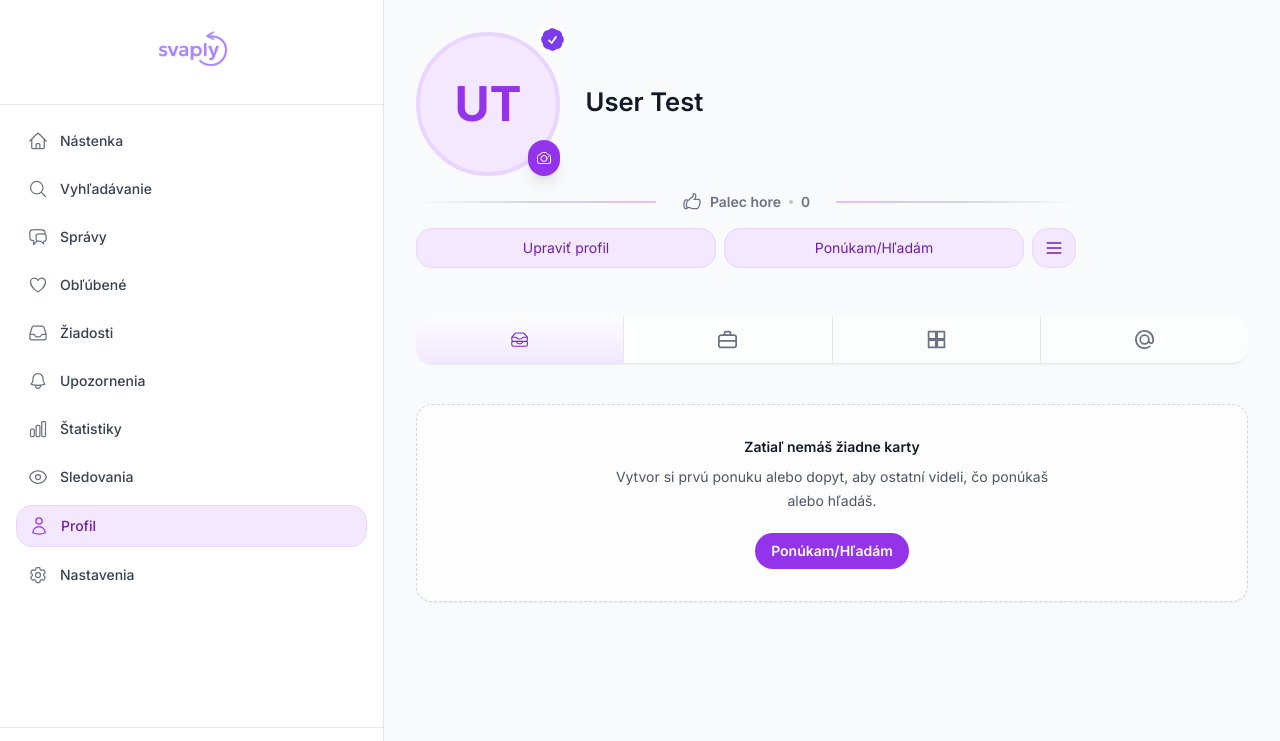
variant 1: vstup cez profil a „Upraviť profil" › Upozornenia: pravý panel aj šípka sú vidieť a šípka vedie rovno na profil
The width and height of the screenshot is (1280, 741).
Click the button "Upraviť profil". click: (566, 248)
box: [416,228,716,268]
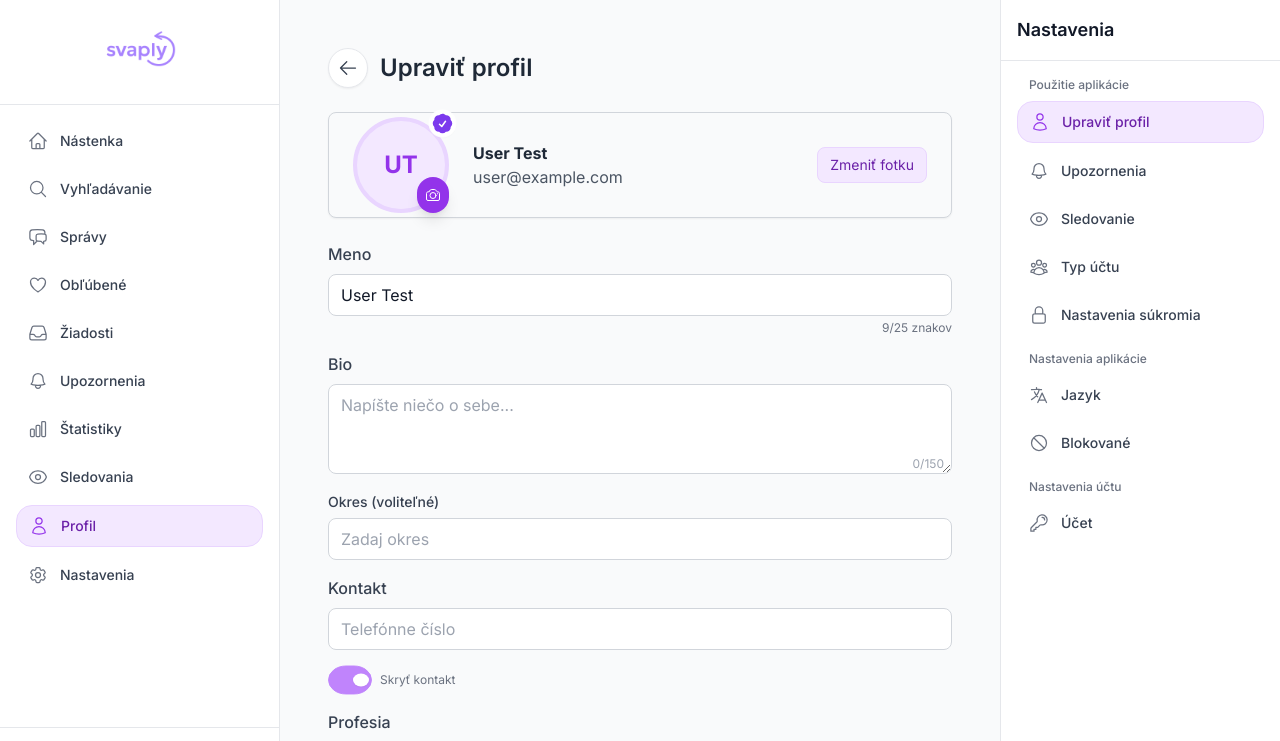
Click the button "Upozornenia" below "Použitie aplikácie". click: (1140, 171)
box: [1017,151,1264,191]
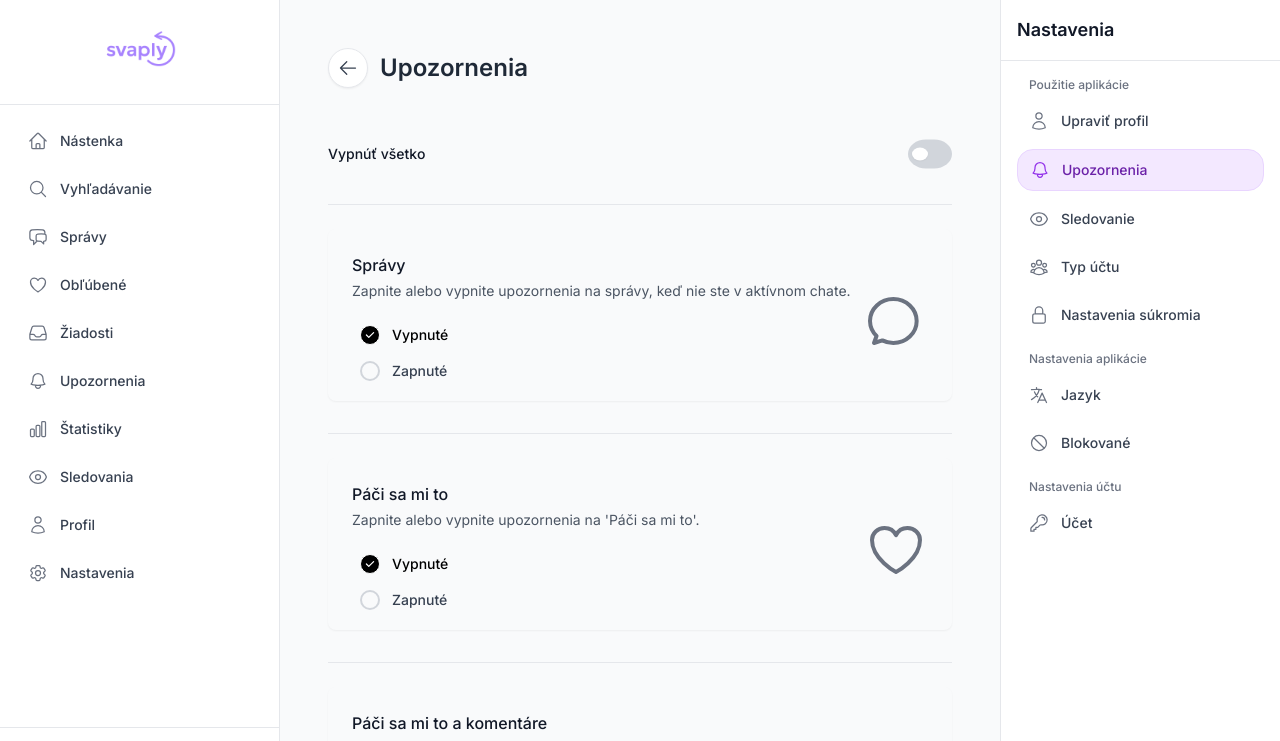
Click the button named "Späť". click: (348, 68)
box: [328,48,368,88]
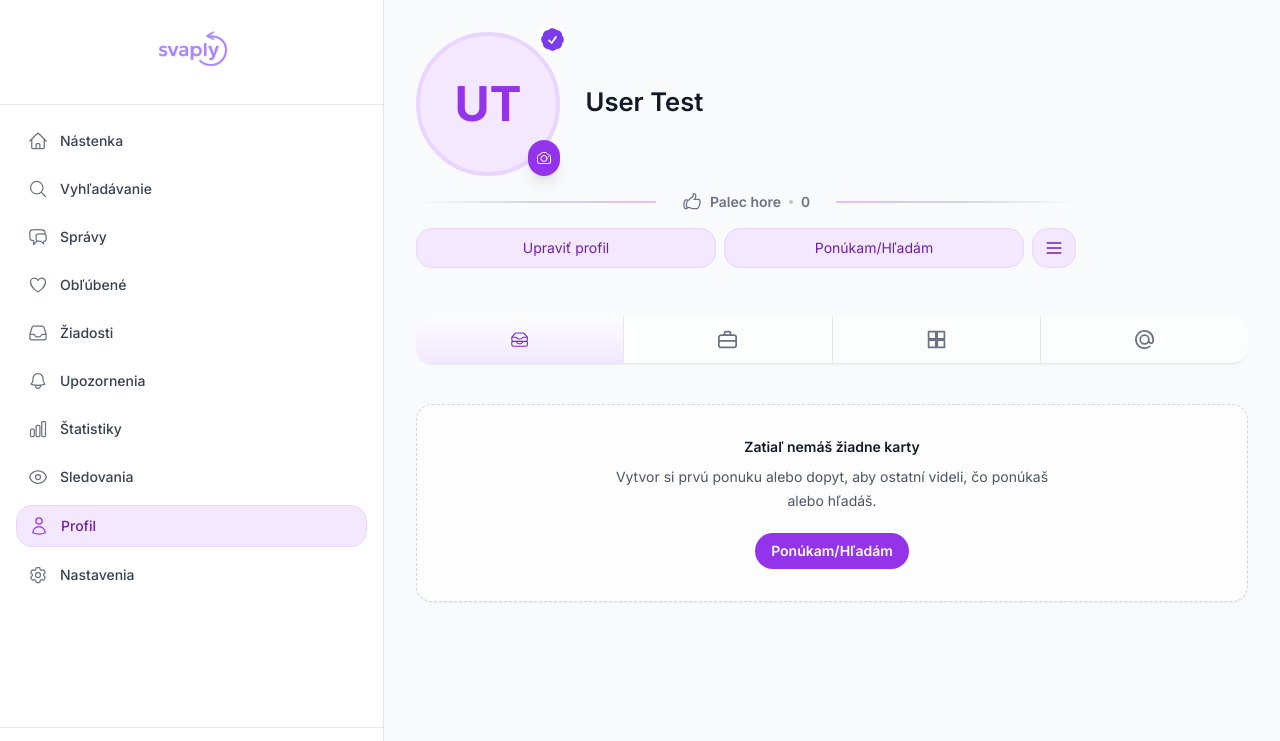
Expected: the heading "Použitie aplikácie" is gone
